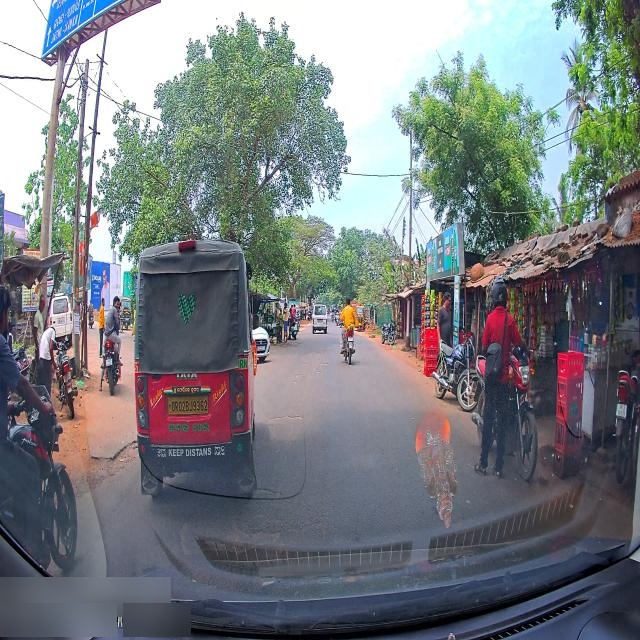pothole: (231, 521, 282, 548), (266, 412, 306, 430), (253, 486, 282, 498), (314, 366, 320, 372), (292, 380, 298, 386), (296, 373, 304, 377), (309, 370, 313, 378), (318, 364, 328, 366), (303, 362, 306, 368), (319, 358, 323, 362), (303, 370, 307, 374), (323, 348, 327, 352), (317, 351, 320, 355), (316, 372, 321, 374)
